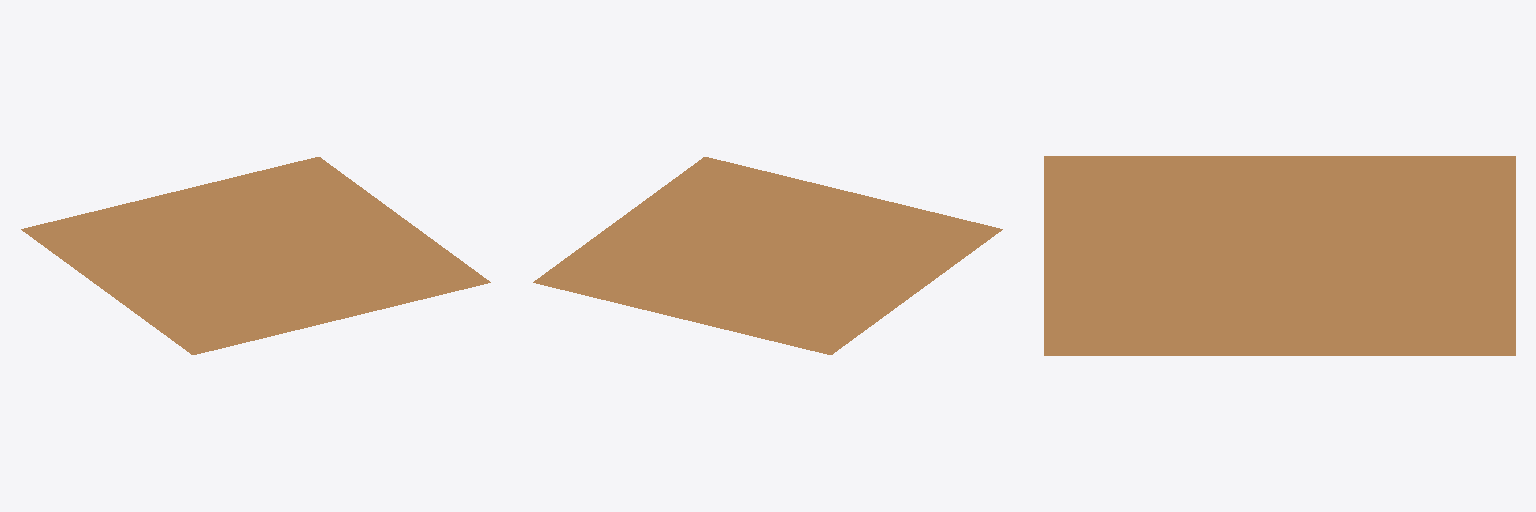
URDF robot description (floor):
<?xml version="1.0"?>
<robot name="floor">
  <link name="floor">
    <visual>
      <origin xyz="0 0 0" rpy="0 0 0"/>
      <geometry>
        <mesh filename="floor.obj" scale="1 1 1"/>
      </geometry>
      <material name="wood">
        <color rgba="0.8 0.6 0.4 1.0"/>
      </material>
    </visual>
    <collision>
      <origin xyz="0 0 0" rpy="0 0 0"/>
      <geometry>
        <box size="10 10 0.1"/>
      </geometry>
    </collision>
    <inertial>
      <mass value="0.0"/>
      <inertia ixx="0.0" ixy="0.0" ixz="0.0" iyy="0.0" iyz="0.0" izz="0.0"/>
    </inertial>
  </link>
</robot>

--- What the picture shows (computed from the rendered views, not written in the file) ---
Views: 3 orthographic renders of the robot side by side, from view 1: azimuth 30°, elevation 25°; view 2: azimuth 150°, elevation 25°; view 3: azimuth 270°, elevation 25°.
Robot: floor — 1 links, 0 joints (none); root link floor; default pose: every joint at zero.
Links seen in each view (by area): view 1: floor; view 2: floor; view 3: floor.
Link boxes in pixels (bbox=[...]): floor: bbox=[21, 157, 490, 354]; floor: bbox=[533, 157, 1002, 354]; floor: bbox=[1044, 156, 1515, 355].
Size in the robot's own frame: 10 by 10 by 0 metres.
Meshes: 1 distinct files referenced, 1 mesh visuals loaded (1 OBJ).
